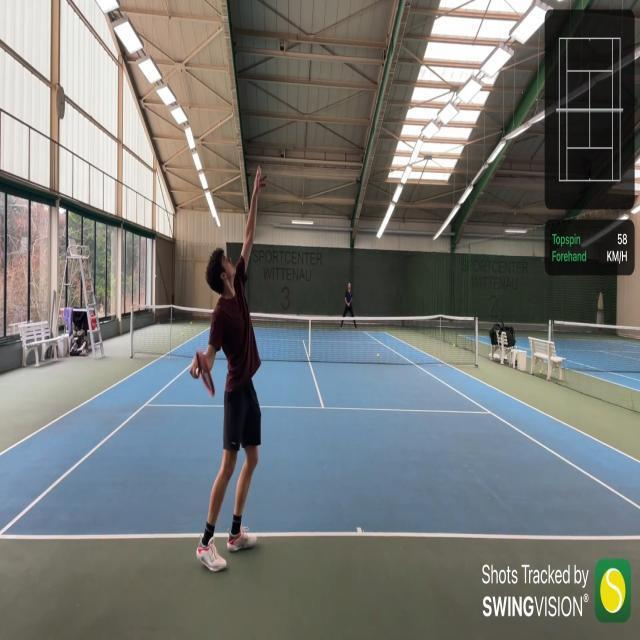court: (0, 326, 640, 542)
net: (127, 304, 481, 364)
player: (190, 166, 267, 574)
